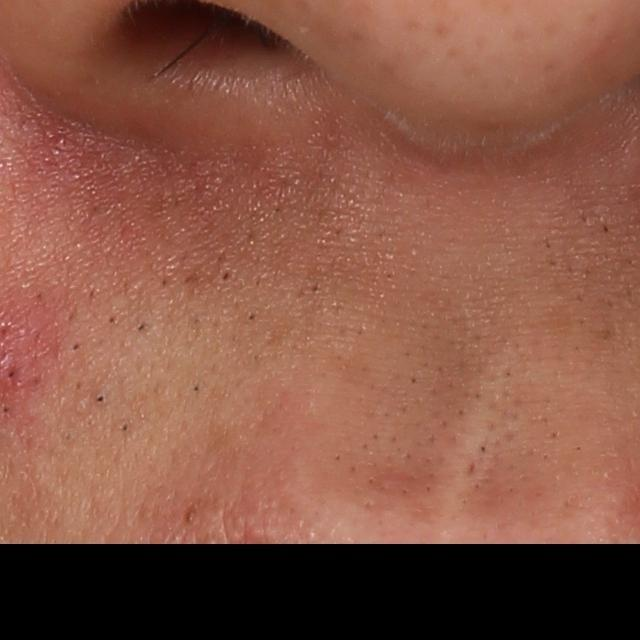other: (434, 342, 525, 520)
